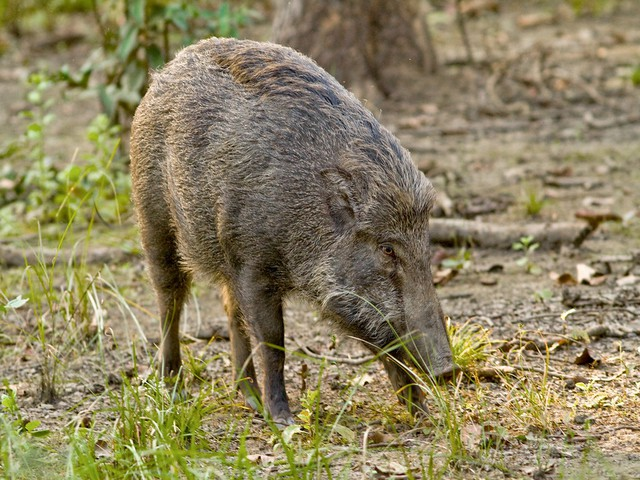Pig: (124, 30, 474, 417)
